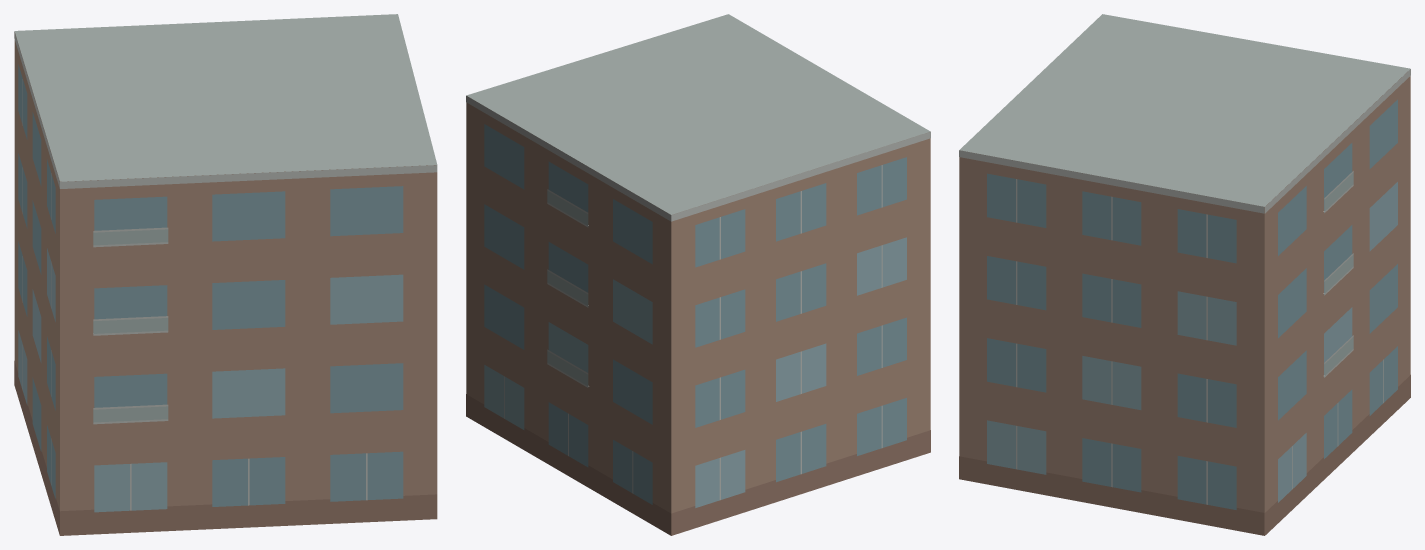
Rendered from survey-upis-32956048.glb.
The picture shows the model from 3 angles, left to right: view 1: azimuth 30°, elevation 25°; view 2: azimuth 150°, elevation 25°; view 3: azimuth 270°, elevation 25°; orthographic projection. The views are drawn at different scales.
Visible parts, largest first — view 1: survey-upis-32956048.tmp; view 2: survey-upis-32956048.tmp; view 3: survey-upis-32956048.tmp.
Part boxes in pixels (<box>): survey-upis-32956048.tmp: <box>14,14,437,535</box>; survey-upis-32956048.tmp: <box>466,14,930,535</box>; survey-upis-32956048.tmp: <box>959,14,1410,535</box>.
Size of the model in its own units: 14.72 by 11.7 by 14.57.
